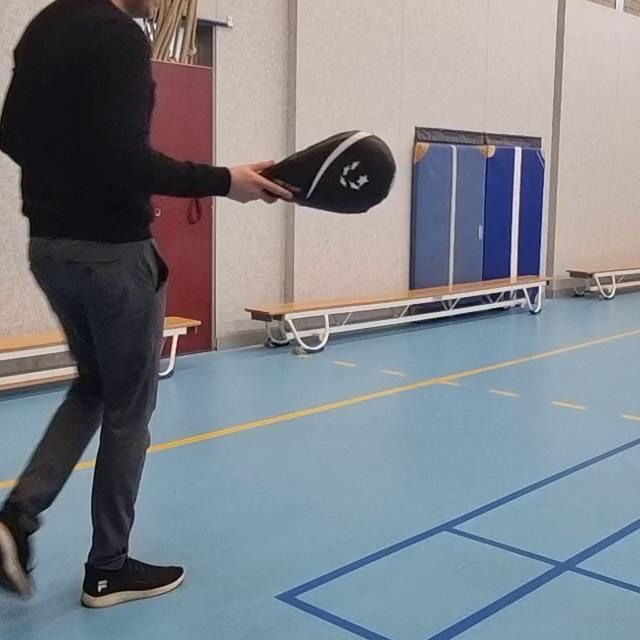paddle: (253, 128, 395, 215)
